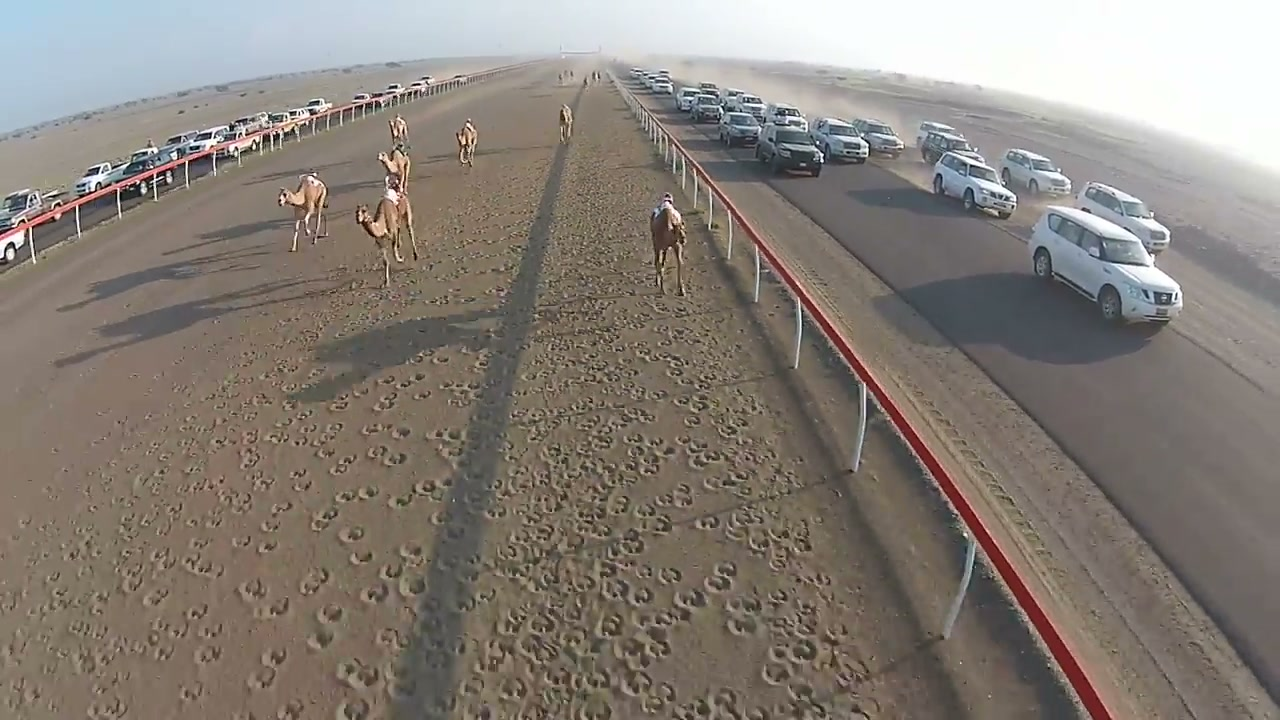animal_footprint: (0, 93, 937, 719)
